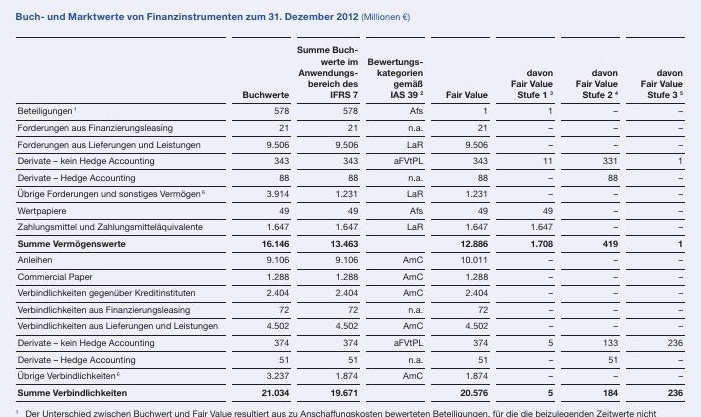table: (0, 0, 701, 417)
